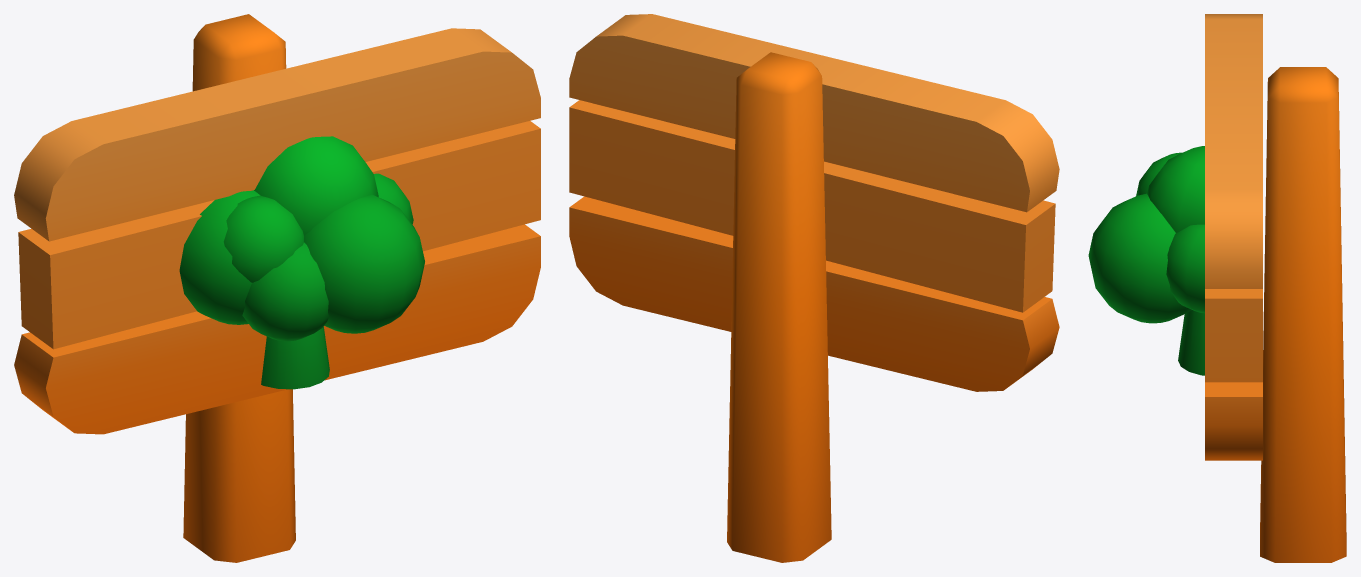
The model's file is Farm_Crop_Sign_Broccoli_01.fbx.
3 views of the same model, side by side, from view 1: azimuth 30°, elevation 25°; view 2: azimuth 150°, elevation 25°; view 3: azimuth 270°, elevation 25° (orthographic). The views are drawn at different scales.
Visible parts, largest first — view 1: Farm_Crop_Sign_Broccoli_01; view 2: Farm_Crop_Sign_Broccoli_01; view 3: Farm_Crop_Sign_Broccoli_01.
Part boxes in pixels (left/top/right/bottom): Farm_Crop_Sign_Broccoli_01: left=14, top=14, right=540, bottom=562; Farm_Crop_Sign_Broccoli_01: left=569, top=14, right=1059, bottom=562; Farm_Crop_Sign_Broccoli_01: left=1088, top=14, right=1346, bottom=562.
Size of the model in its own units: 90.11 by 88.8 by 44.38.
